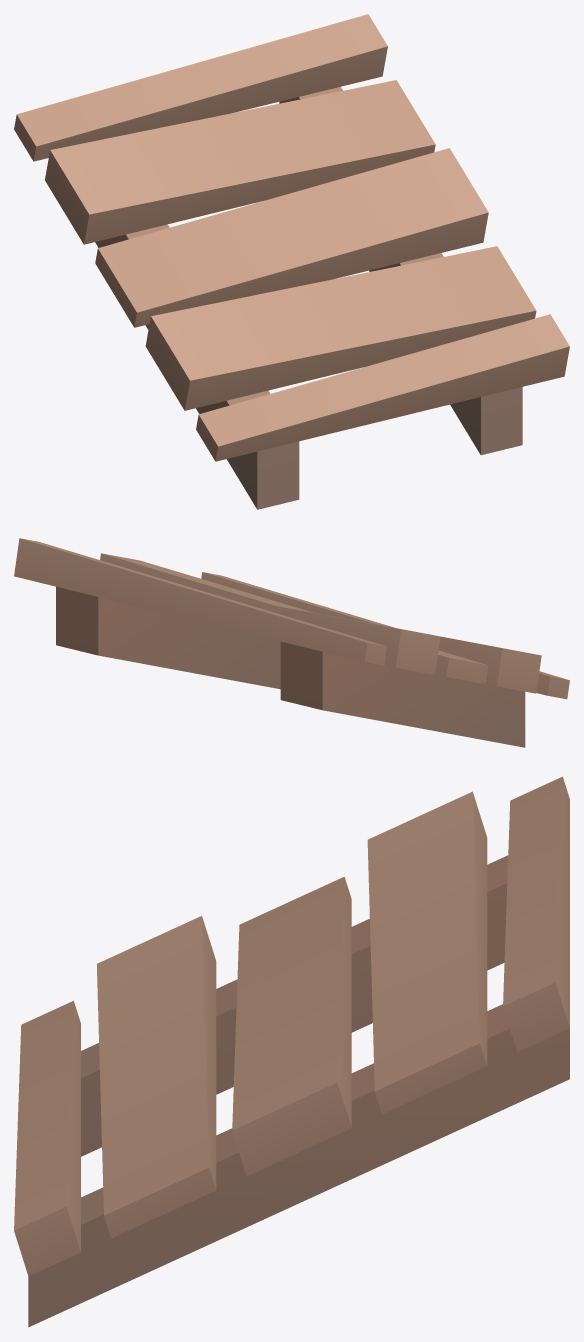
The model's file is ramp_short.glb.
3 views of the same model, one above another, from view 1: azimuth 30°, elevation 25°; view 2: azimuth 150°, elevation 25°; view 3: azimuth 270°, elevation 25° (orthographic). The views are drawn at different scales.
Parts seen in each view (by area): view 1: ramp_short; view 2: ramp_short; view 3: ramp_short.
Part boxes in pixels (x1,y1,x2,y2): ramp_short: (14, 14, 569, 509); ramp_short: (14, 538, 569, 747); ramp_short: (14, 776, 569, 1327).
Bounding box in the file's own units: 1 × 0.7589 × 1.03.
